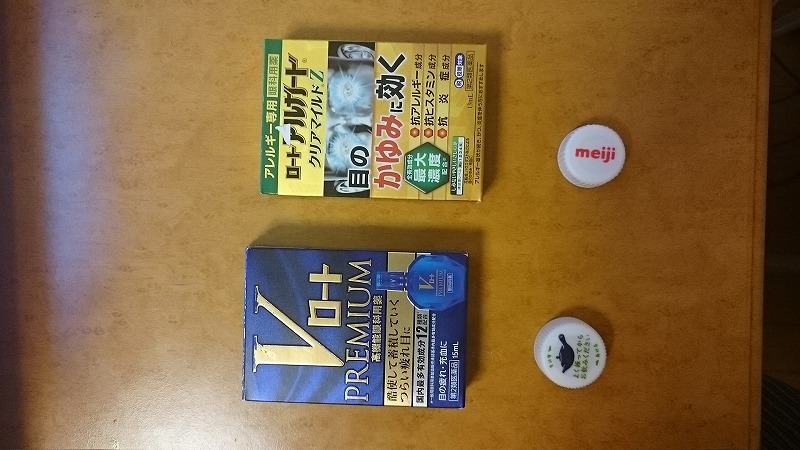A: (527, 314, 623, 395)
B: (549, 119, 636, 187)
C: (254, 31, 491, 210)
D: (238, 235, 472, 418)
